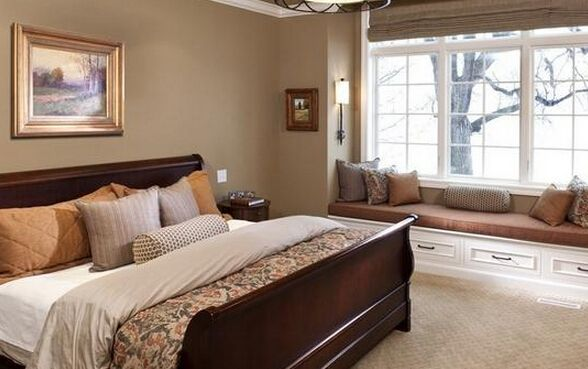床: (0, 212, 421, 365)
枕头: (16, 177, 212, 266), (339, 160, 427, 205), (527, 184, 583, 225)
灯: (330, 75, 352, 144)
